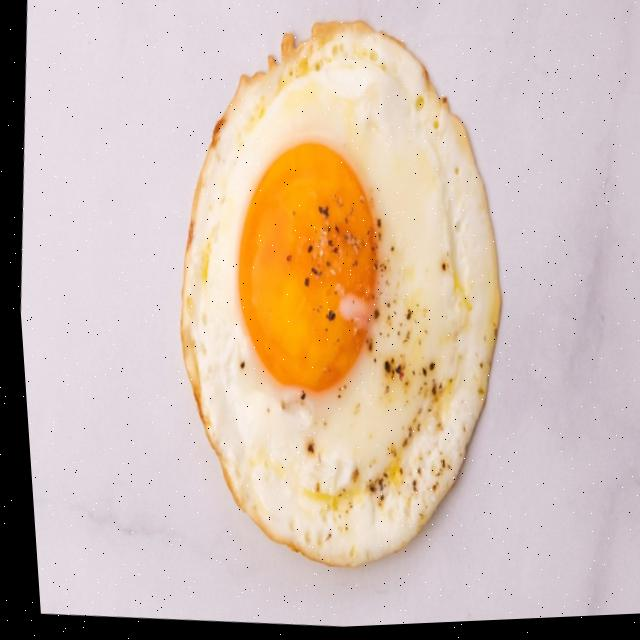Egg: (175, 26, 496, 568)
